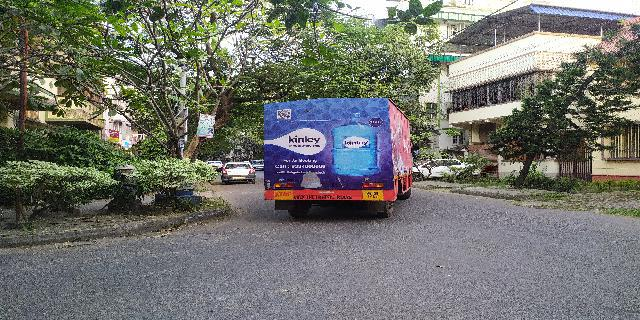Car: (220, 160, 258, 183)
Truck: (250, 98, 414, 226)
